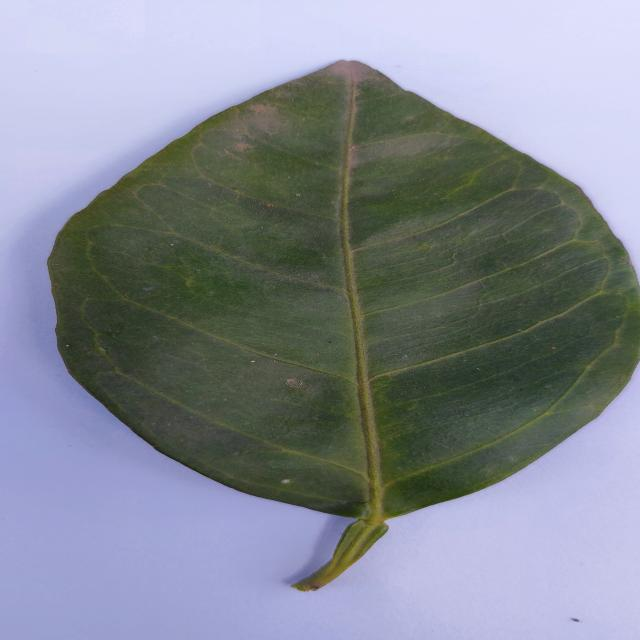greening: (49, 60, 640, 591)
